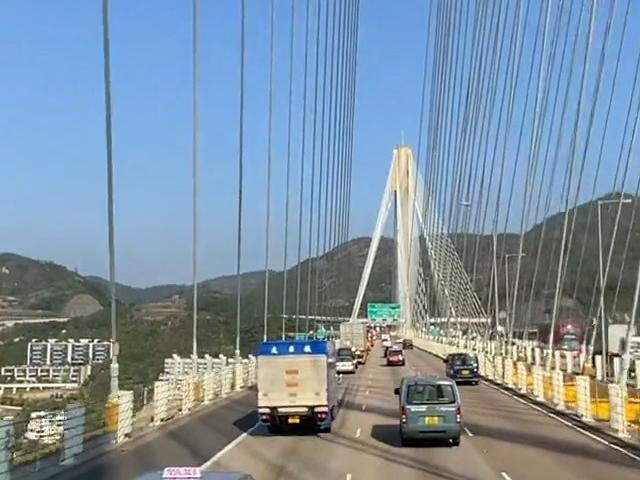car: (334, 344, 359, 374), (385, 345, 405, 367), (391, 338, 408, 353)
truck: (252, 335, 347, 443), (340, 318, 377, 367)
van: (383, 368, 473, 448), (444, 352, 480, 386)
